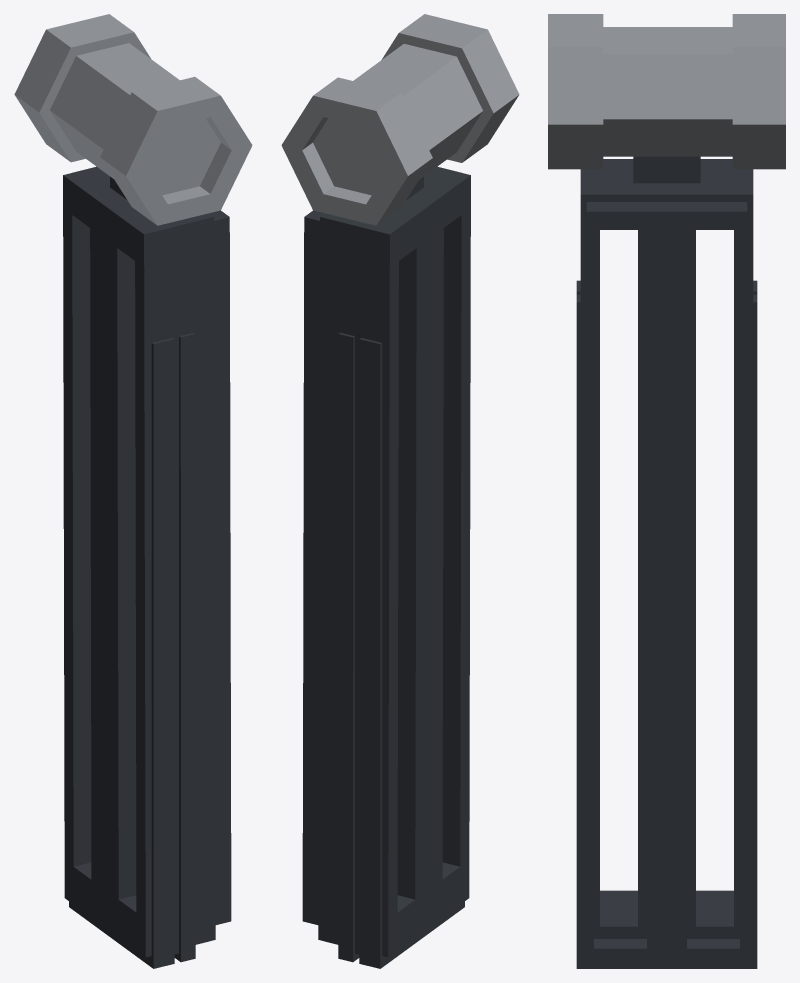
The model's file is SM_Screen.glb.
3 renders of one model, left to right at view 1: azimuth 30°, elevation 25°; view 2: azimuth 150°, elevation 25°; view 3: azimuth 270°, elevation 25°, orthographic. The views are drawn at different scales.
Parts seen in each view (by area): view 1: SM_Monitor, SM_Loop_2; view 2: SM_Monitor, SM_Loop_2; view 3: SM_Monitor, SM_Loop_2.
Boxes of the visible parts, x1,y1,x2,y2 form: SM_Monitor: (63, 166, 231, 968); SM_Loop_2: (14, 14, 252, 225); SM_Monitor: (302, 166, 470, 968); SM_Loop_2: (281, 14, 519, 225); SM_Monitor: (576, 156, 757, 968); SM_Loop_2: (548, 14, 785, 169).
Bounding box in the file's own units: 0.0999 × 0.656 × 0.1524.
2 materials, 1 textured.
